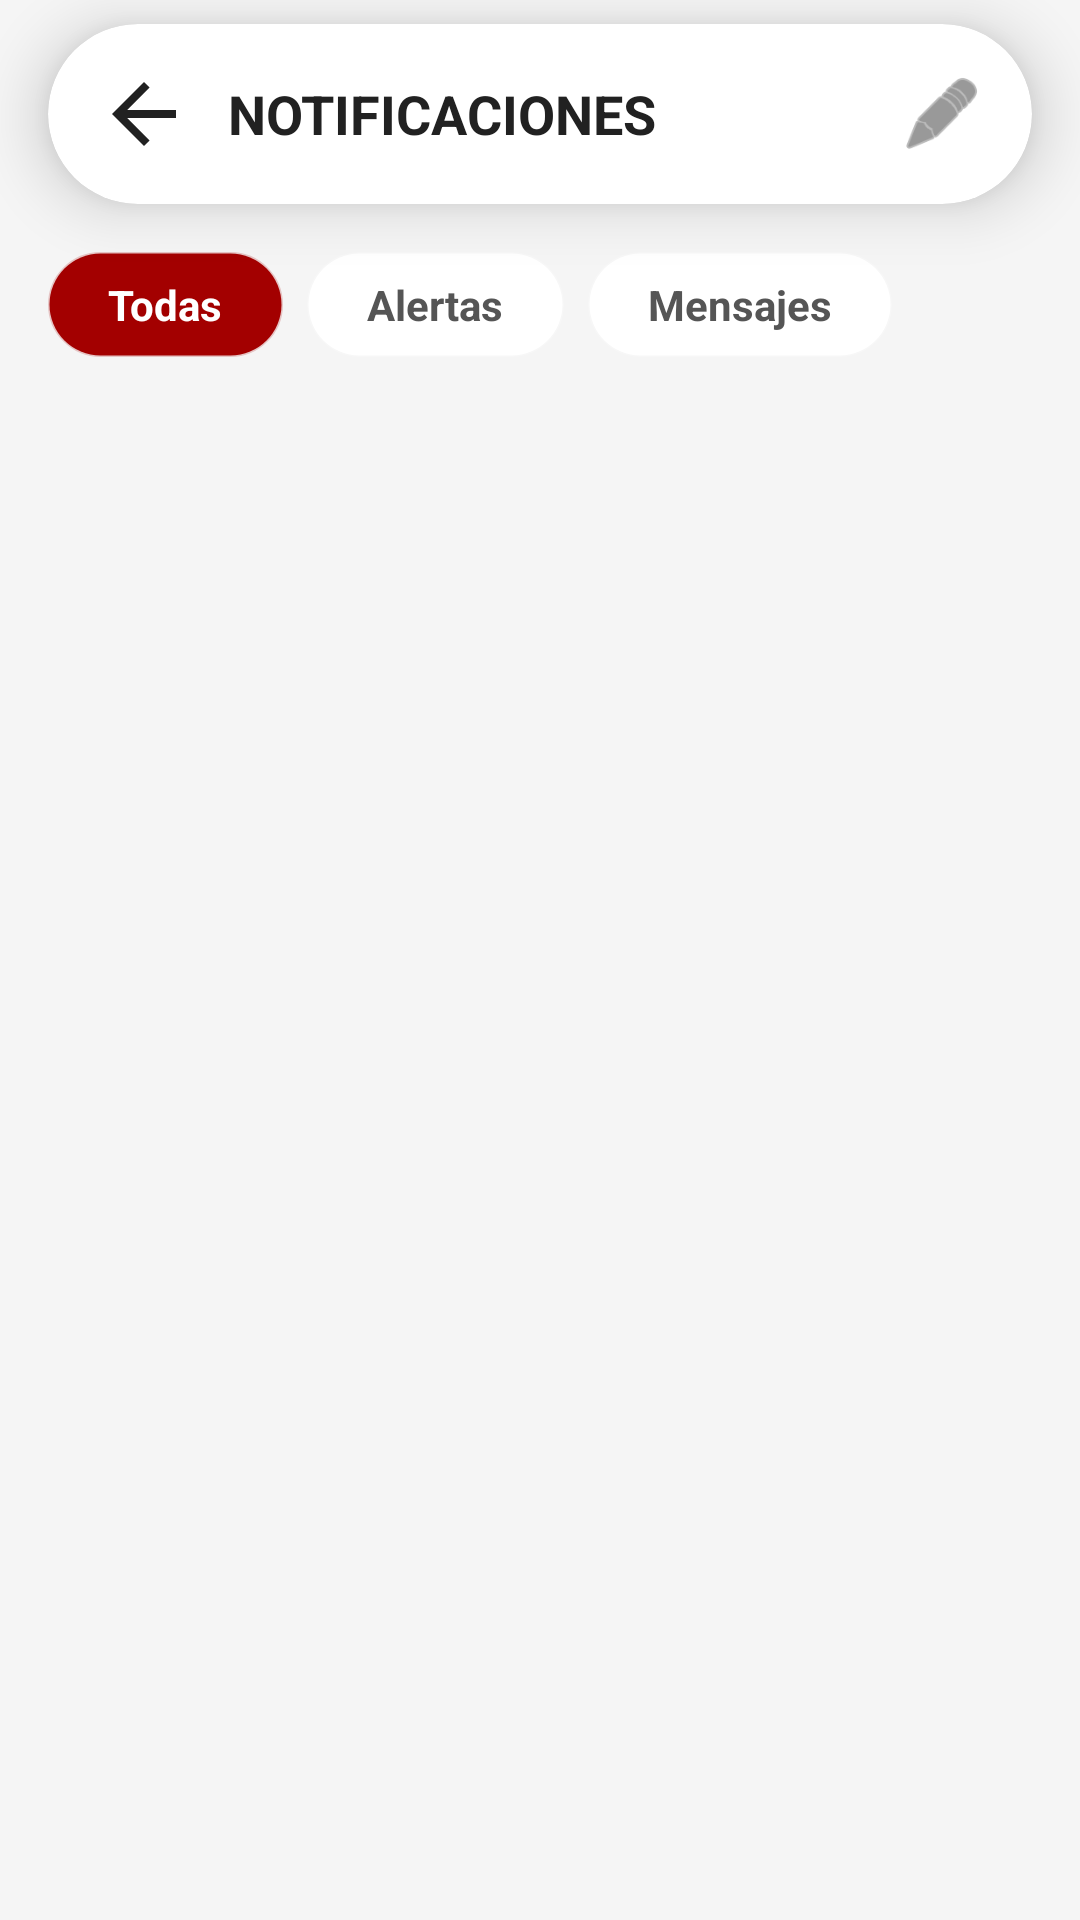

Icon click points for this 1080w x 1920h phone screenshot, format (x=x, y=y):
Activar modo edición: (x=941, y=113)
Volver: (x=144, y=114)
